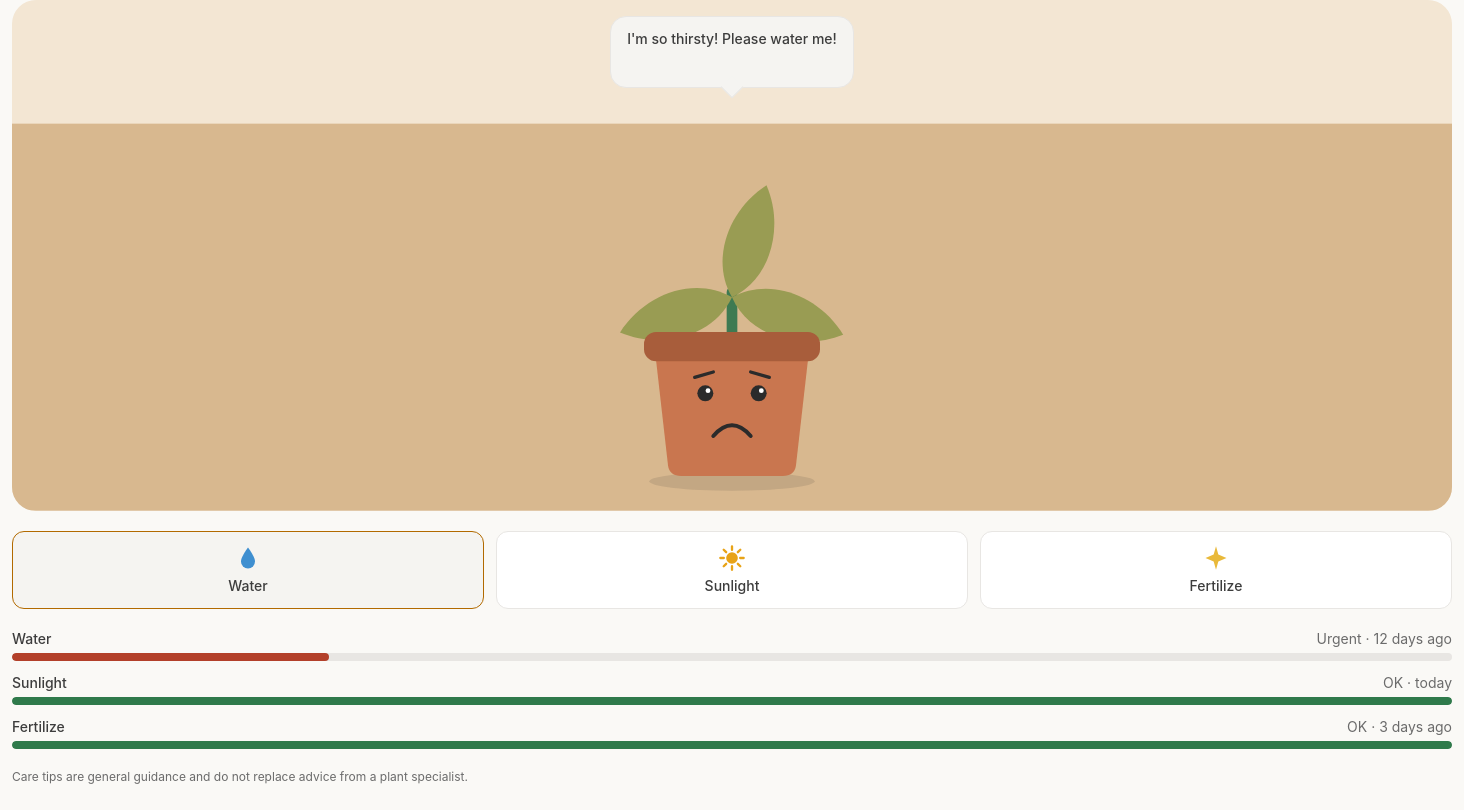
Test: PlantPet › thanks the user and refreshes the mood after watering
Click the button "Water": {"x": 248, "y": 570} [12,531,484,609]
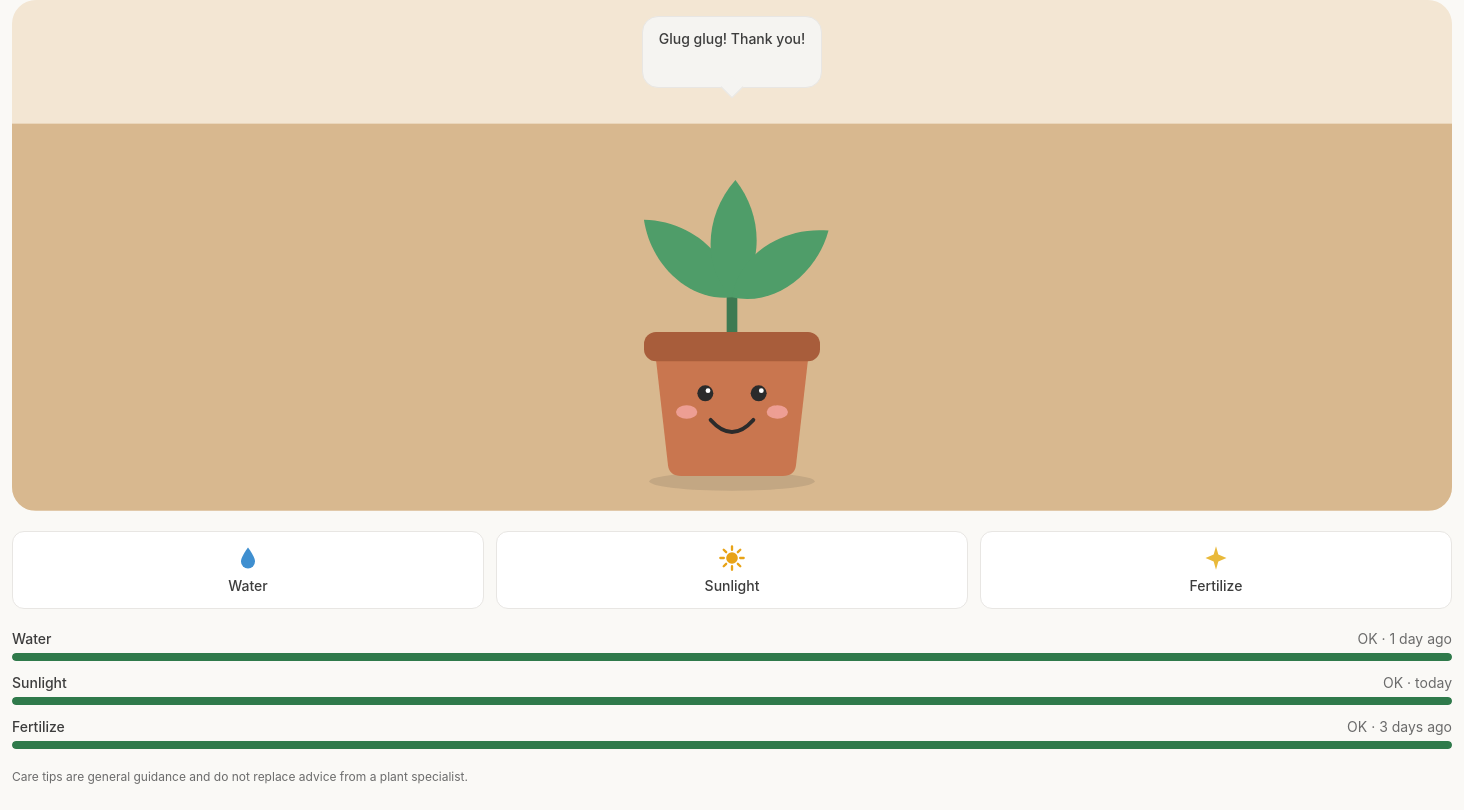
Check: the text "Glug glug! Thank you!" is shown, box [642,16,822,88]
